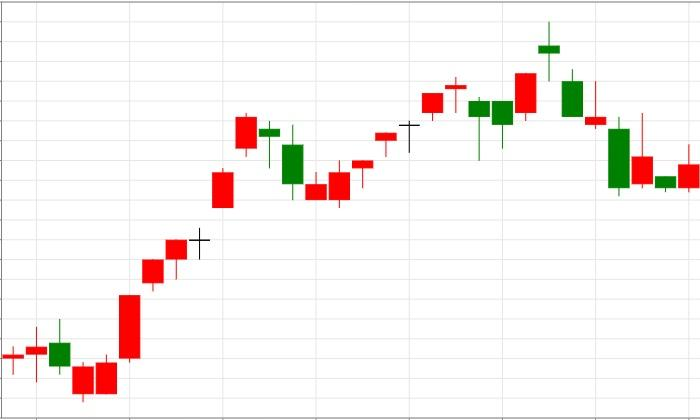evening_star_fall: (305, 76, 490, 208), (469, 21, 583, 162)
inverse_hammer_rise: (538, 21, 652, 196)
